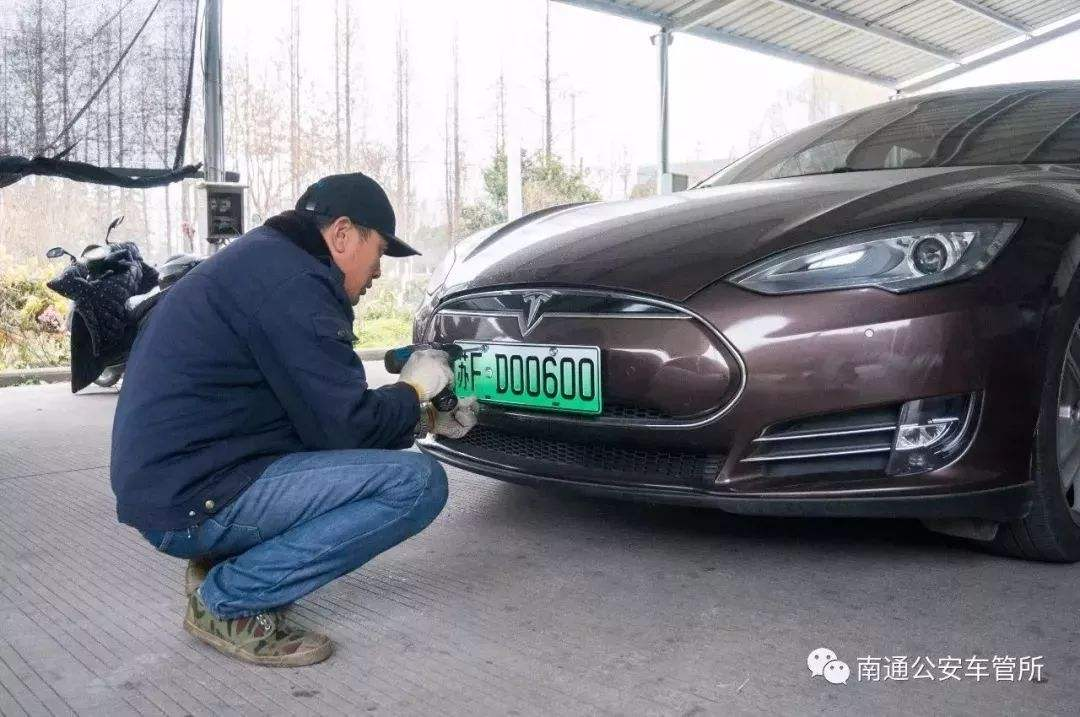plate: (433, 330, 618, 429)
